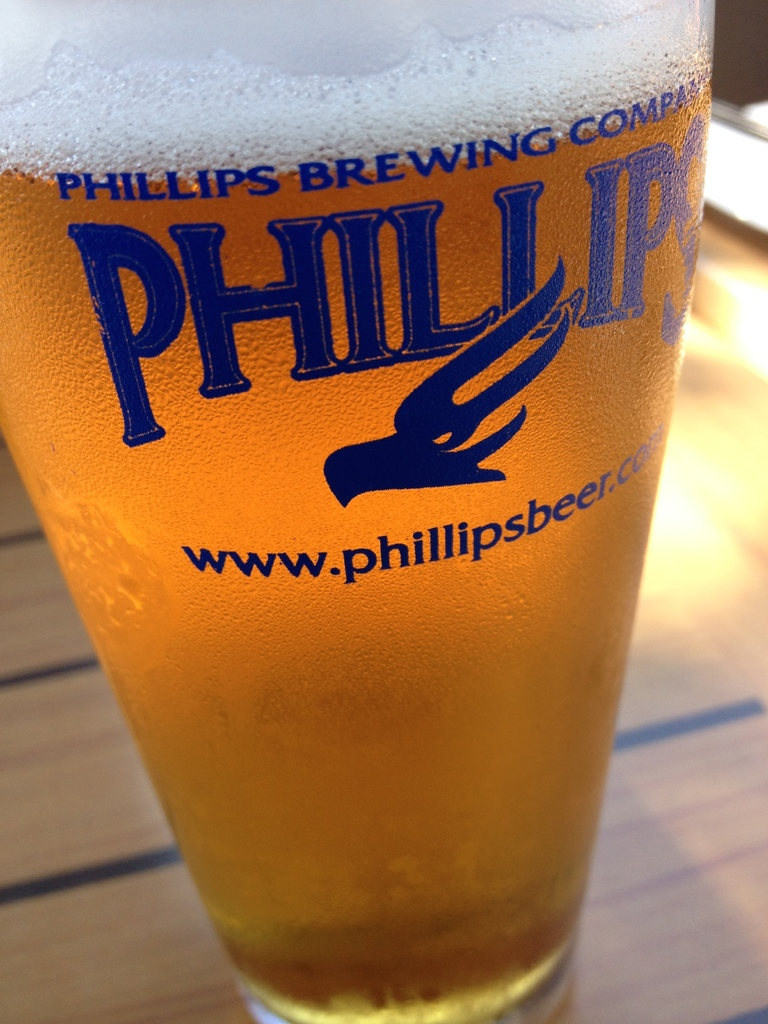Beer: (0, 0, 714, 1024)
